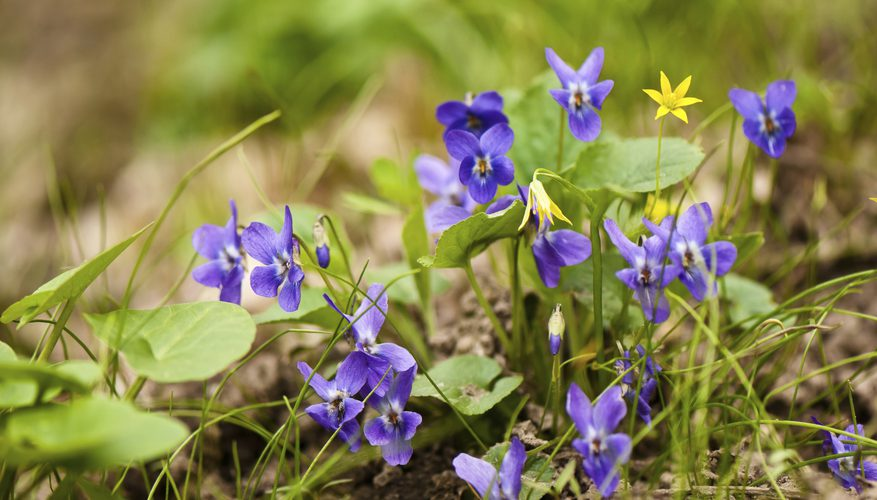violet: (554, 380, 645, 500), (314, 278, 408, 387), (349, 348, 427, 476), (597, 215, 682, 326), (531, 41, 615, 145), (657, 197, 737, 302), (240, 219, 318, 313), (444, 126, 526, 213), (286, 363, 368, 444), (190, 207, 248, 315), (729, 79, 802, 154)
